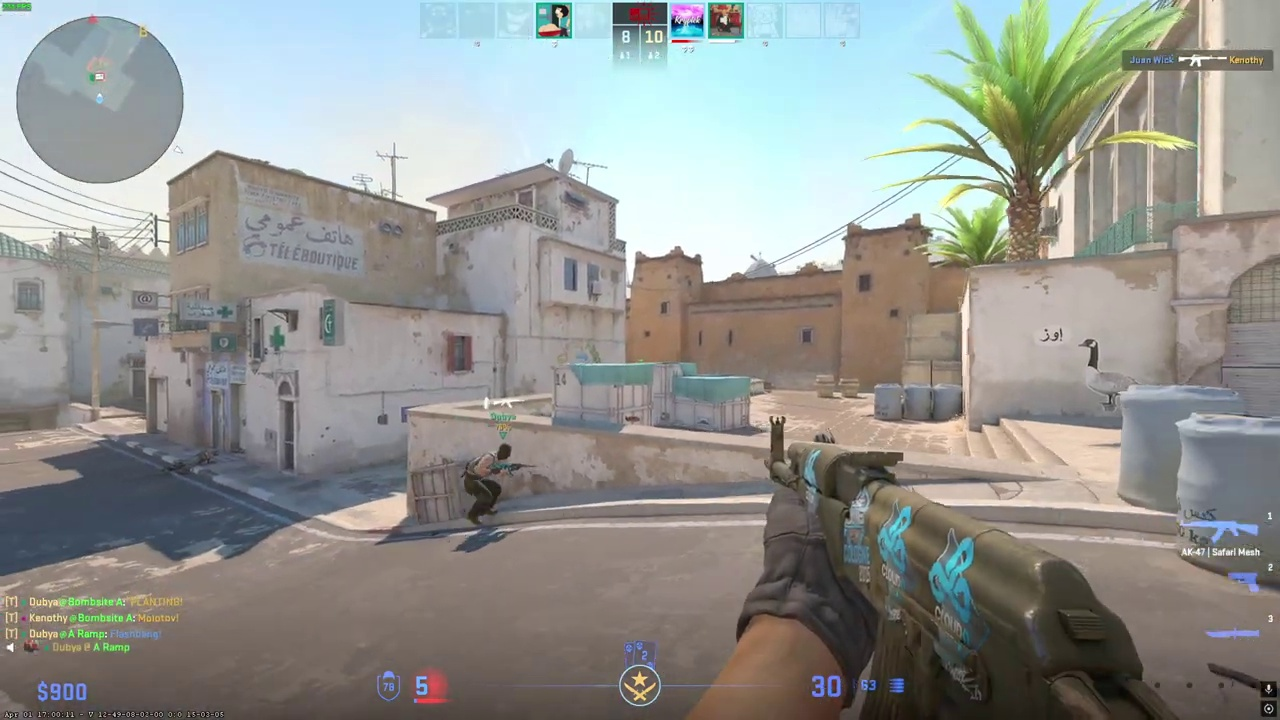Terrorist: (463, 443, 512, 526)
